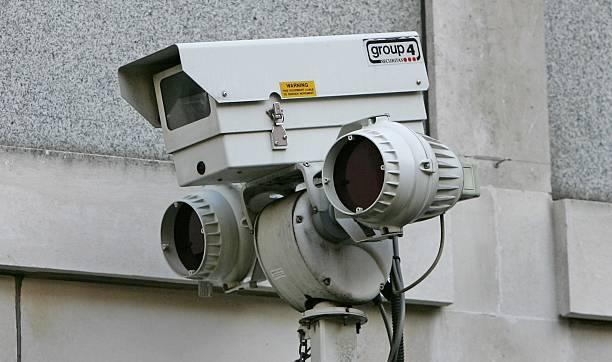camera: (109, 23, 489, 282)
